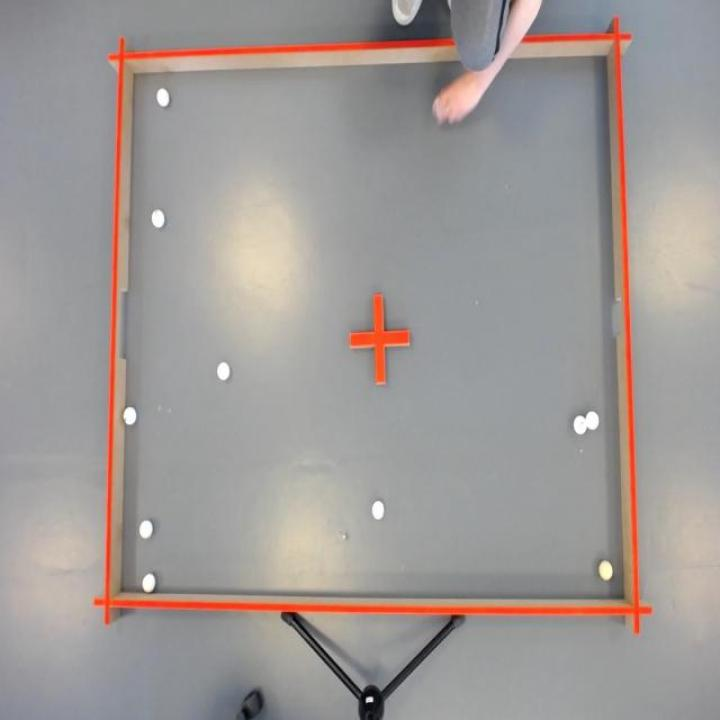white: (136, 516, 156, 543), (596, 558, 616, 583), (370, 496, 386, 523), (156, 86, 171, 110), (122, 406, 138, 428), (151, 207, 165, 232), (217, 360, 231, 385), (140, 574, 158, 592), (585, 410, 599, 433), (574, 413, 587, 435)
